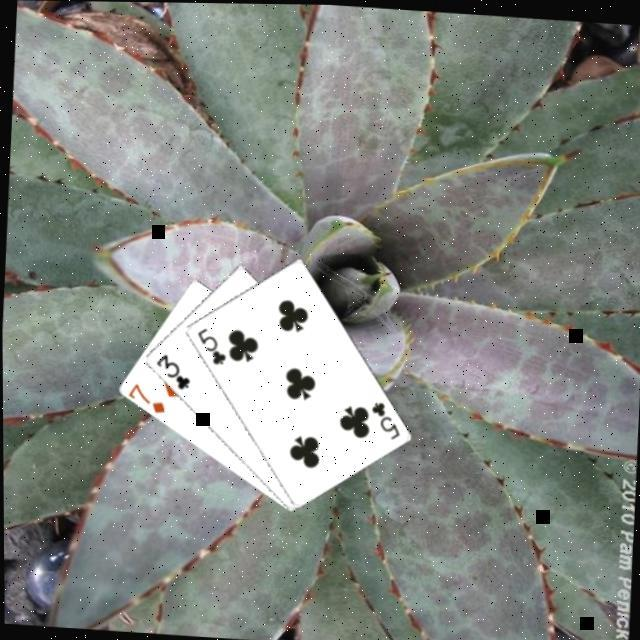3C: (152, 349, 195, 393)
5C: (366, 396, 404, 441), (192, 323, 230, 367)
7D: (125, 379, 170, 416)
